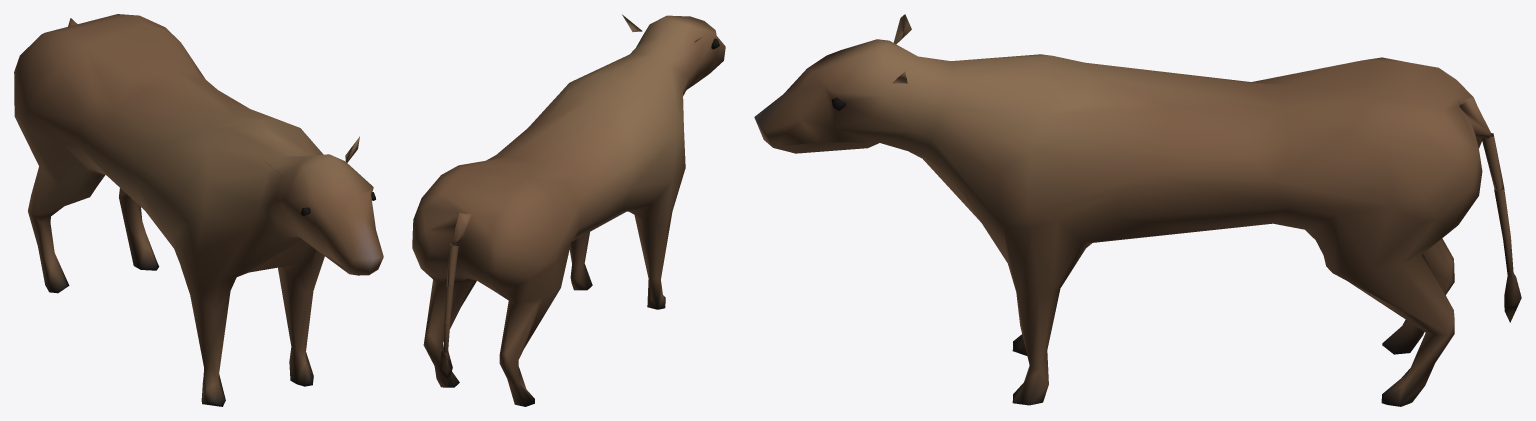
Rendered from kuh_braun.glb.
3 views of the same model, side by side, from view 1: azimuth 30°, elevation 25°; view 2: azimuth 150°, elevation 25°; view 3: azimuth 270°, elevation 25° (orthographic). The views are drawn at different scales.
Visible parts, largest first — view 1: lack; view 2: lack; view 3: lack.
Boxes of the visible parts, x1,y1,x2,y2 form: lack: [14, 14, 383, 406]; lack: [412, 14, 725, 406]; lack: [754, 14, 1521, 406].
Size of the model in its own units: 0.903 by 1.53 by 3.17.
